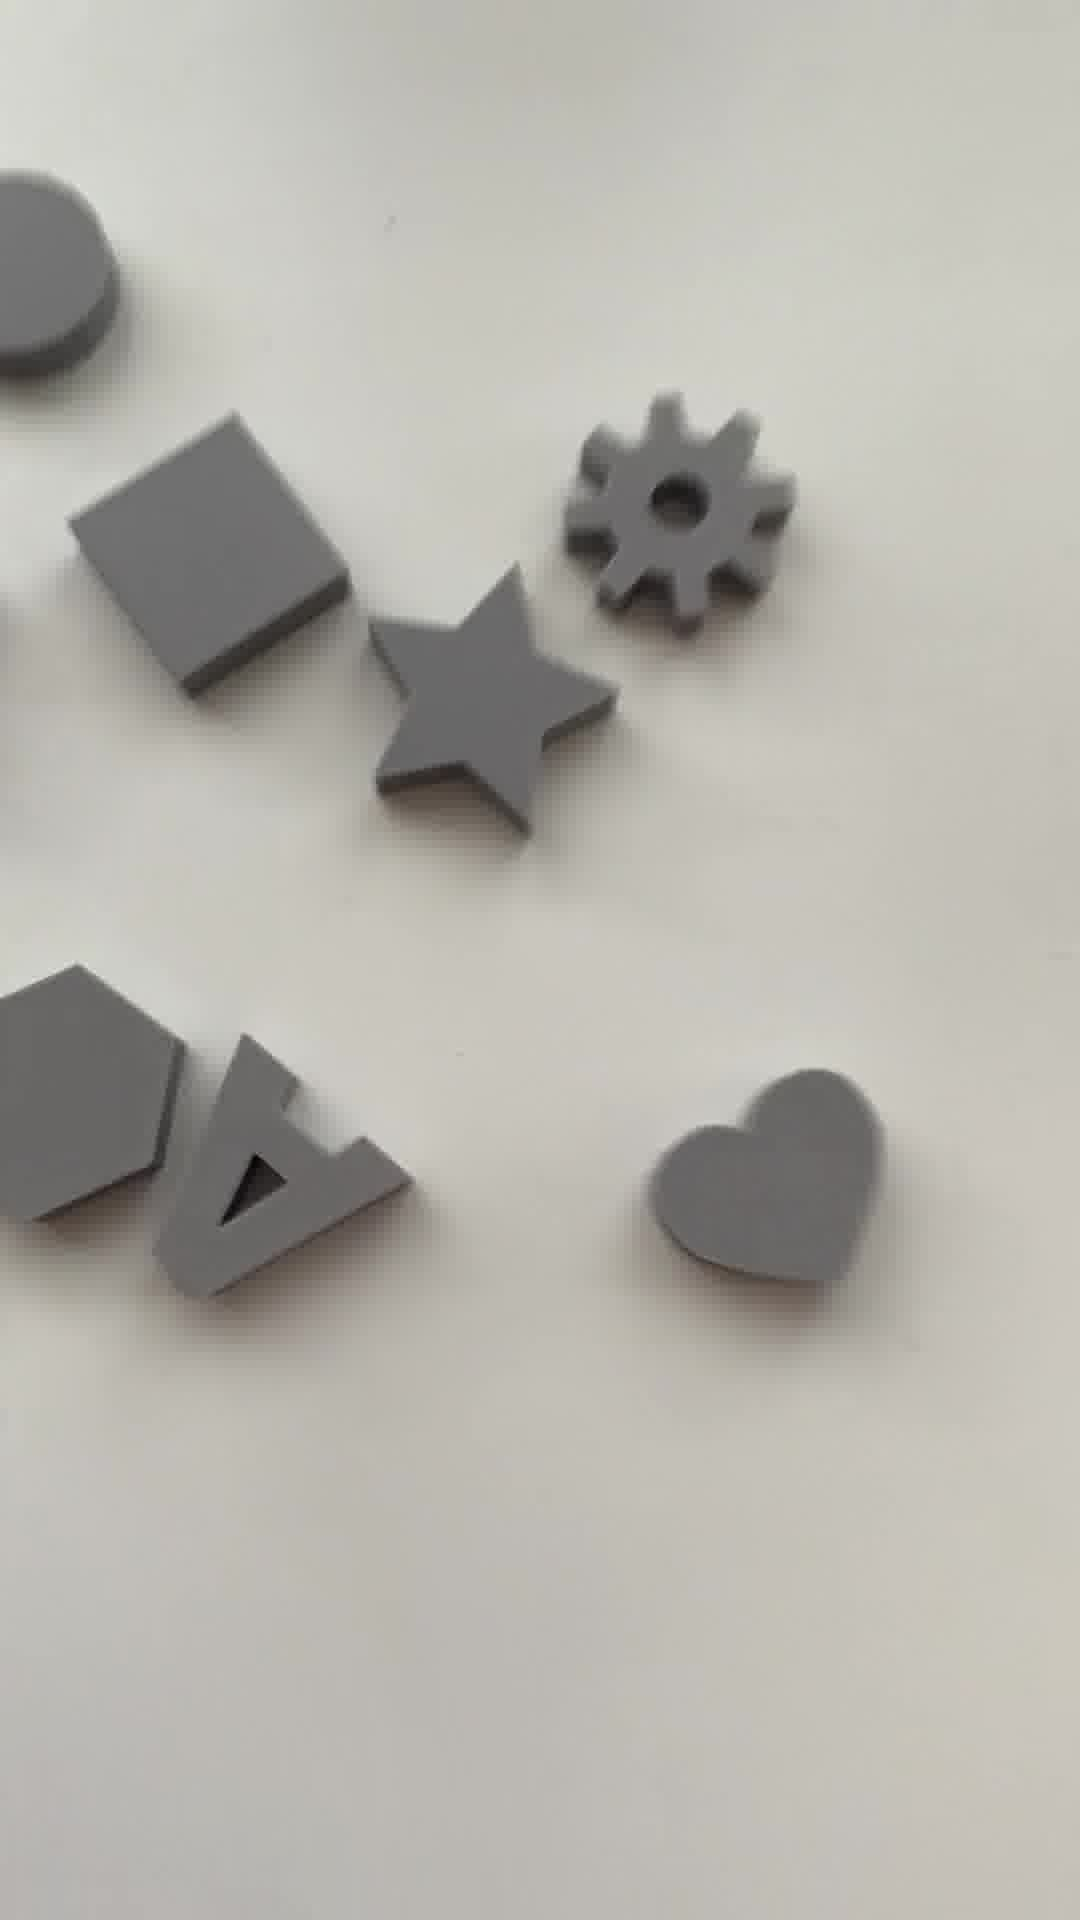Gray A-letter: (149, 1046, 407, 1303)
Gray circle: (1, 171, 142, 381)
Gray gear: (560, 400, 793, 636)
Gray heart: (647, 1065, 882, 1304)
Gray hexagon: (1, 963, 194, 1232)
Gray square: (58, 415, 364, 703)
Gray star: (351, 564, 613, 829)
